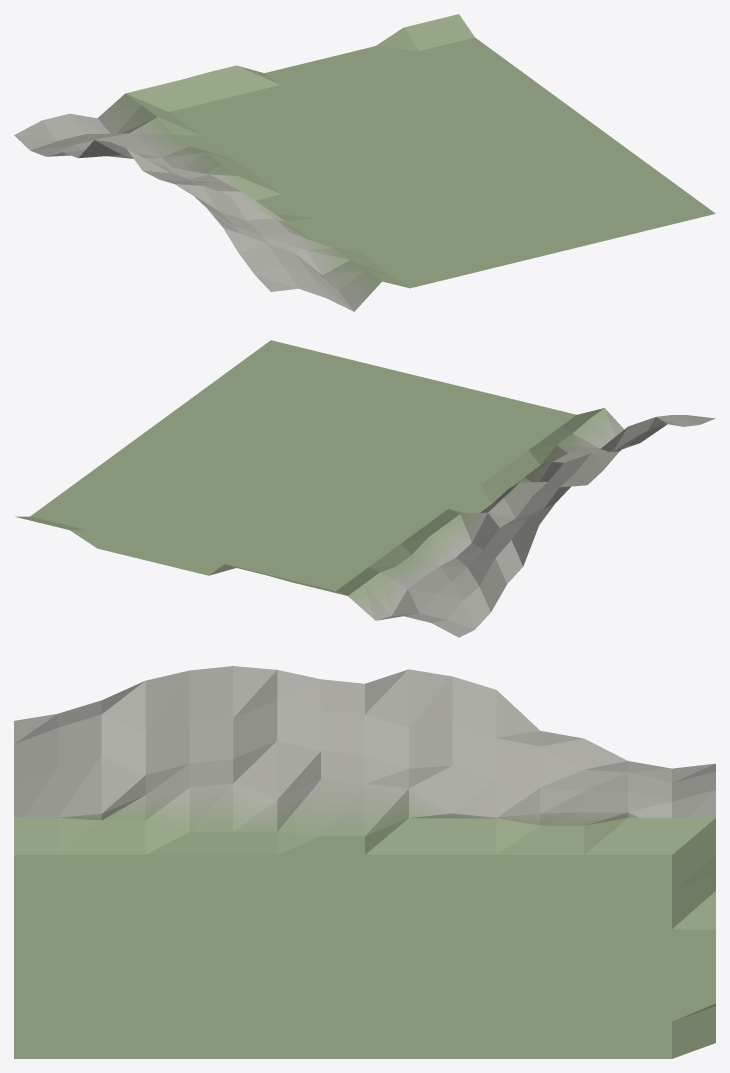
3 renders of one model, top to bottom at view 1: azimuth 30°, elevation 25°; view 2: azimuth 150°, elevation 25°; view 3: azimuth 270°, elevation 25°, orthographic. The views are drawn at different scales.
Bounding box in the file's own units: 32 × 5.62 × 32.
